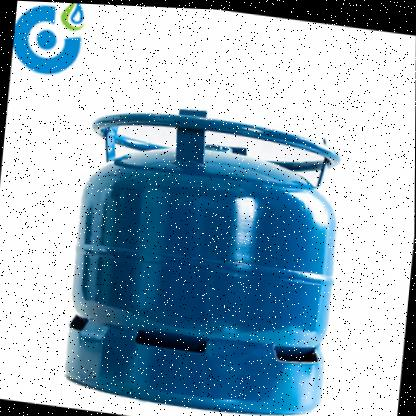gas-tank: (21, 72, 387, 415)
